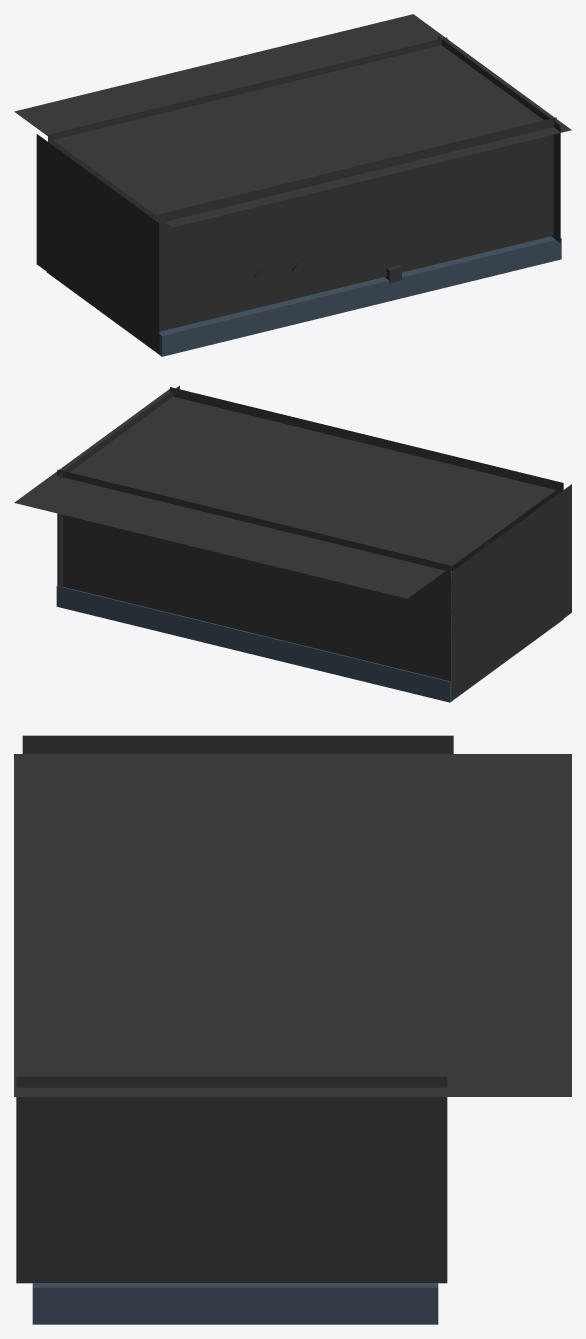
Rendered from project 1.fbx.
The picture shows the model from 3 angles, top to bottom: view 1: azimuth 30°, elevation 25°; view 2: azimuth 150°, elevation 25°; view 3: azimuth 270°, elevation 25°; orthographic projection. The views are drawn at different scales.
Visible parts, largest first — view 1: Plane5, Plane4, Plane_8, Floor_14, Floor, Plane3, Plane2, Cone2, Cone_26; view 2: Plane5, Plane3, Plane_8, Floor_14, Floor, Plane4, Plane2; view 3: Plane5, Plane2, Floor, Plane_8.
Boxes of the visible parts, bbox=[...] form: Plane5: bbox=[14, 14, 571, 227]; Plane4: bbox=[157, 117, 556, 331]; Plane_8: bbox=[36, 134, 159, 353]; Floor_14: bbox=[46, 272, 361, 356]; Floor: bbox=[357, 236, 561, 307]; Plane3: bbox=[48, 37, 447, 218]; Plane2: bbox=[438, 36, 560, 243]; Cone2: bbox=[290, 255, 340, 284]; Cone_26: bbox=[252, 262, 296, 290]; Plane5: bbox=[14, 389, 555, 598]; Plane3: bbox=[57, 469, 450, 681]; Plane_8: bbox=[451, 484, 571, 700]; Floor_14: bbox=[253, 571, 563, 702]; Floor: bbox=[56, 585, 253, 654]; Plane4: bbox=[170, 387, 563, 571]; Plane2: bbox=[59, 385, 179, 589]; Plane5: bbox=[14, 754, 571, 1096]; Plane2: bbox=[16, 1076, 447, 1283]; Floor: bbox=[32, 1283, 438, 1324]; Plane_8: bbox=[22, 735, 453, 753].
Size of what is drawn, in the model's own units: 822 by 550 by 270.
